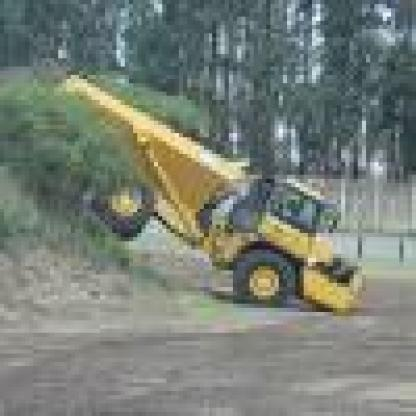dump_truck: (29, 54, 404, 329)
